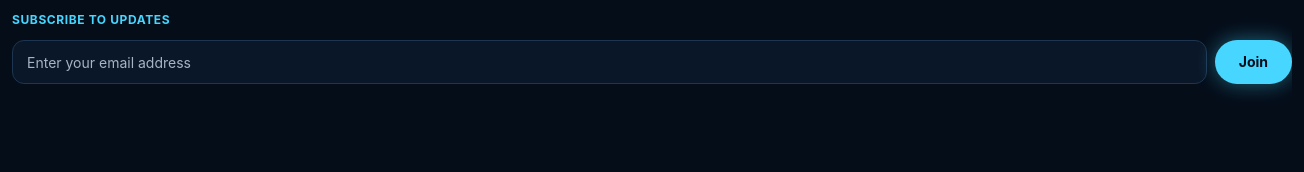
Test: NewsletterForm › subscribes once with the normalized email and says the result was simulated
This screenshot has width=1304, height=172.
Type "  Gamer@Example.COM " into the field labelled "email address" at x=609, y=62, box [12,40,1207,84]
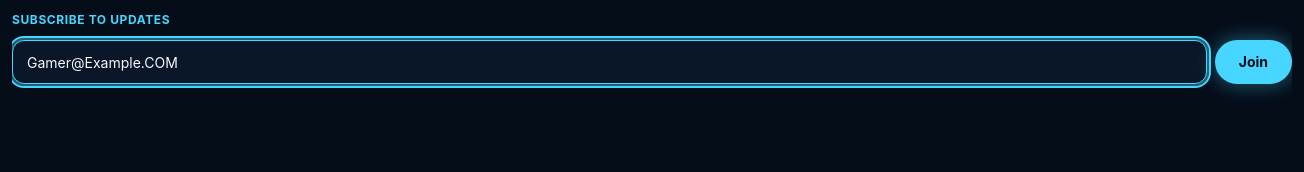
Click the button "Join" at x=1253, y=62, box [1215,40,1292,84]
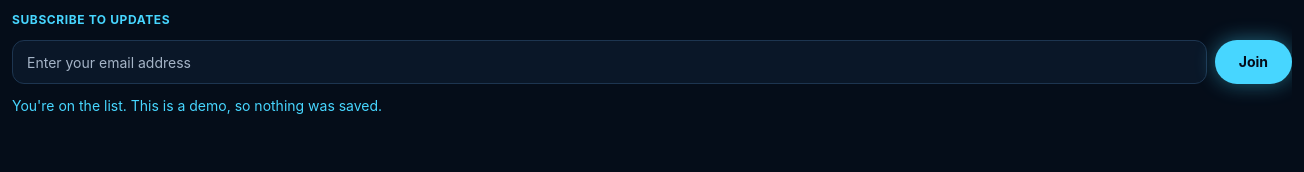
Expected: the message shows "demo", [12,97,382,114]
Expected: the field labelled "email address" is empty, [12,40,1207,84]
